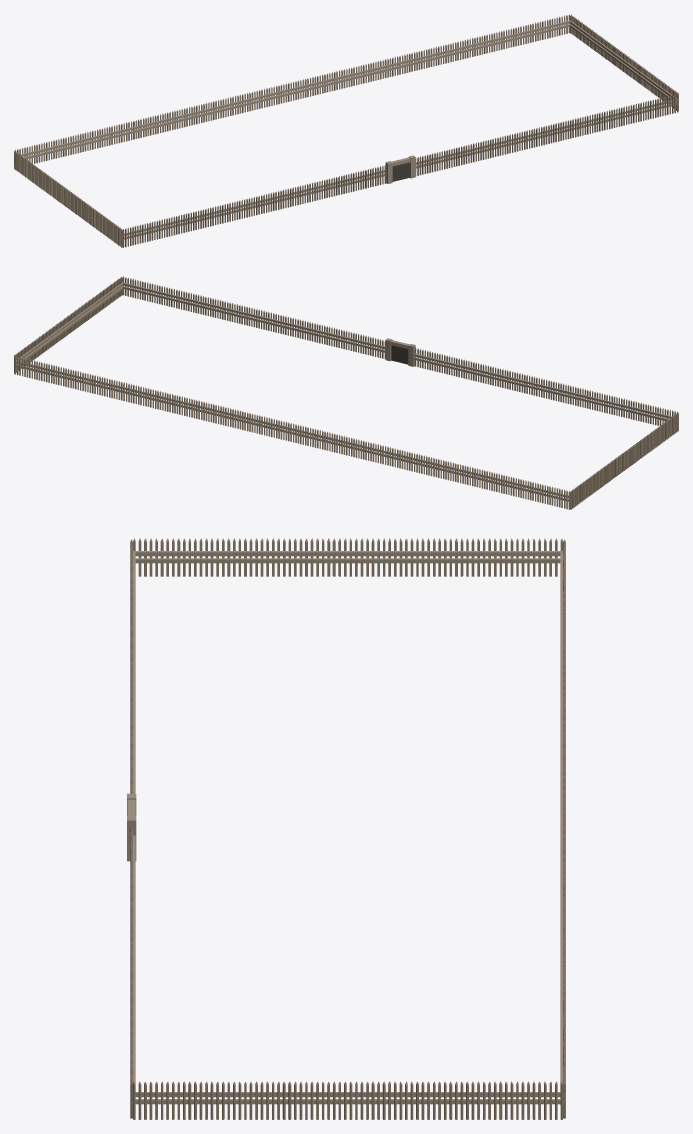
File: kinzie_garden_1812__kinzie_1804.glb
3 views of the same model, one above another, from view 1: azimuth 30°, elevation 25°; view 2: azimuth 150°, elevation 25°; view 3: azimuth 270°, elevation 25° (orthographic). The views are drawn at different scales.
Parts seen in each view (by area): view 1: kinzie_garden_1812__kinzie_1804; view 2: kinzie_garden_1812__kinzie_1804; view 3: kinzie_garden_1812__kinzie_1804.
Boxes of the visible parts, box(x1,y1,x2,y2) form: kinzie_garden_1812__kinzie_1804: box(14, 14, 678, 247); kinzie_garden_1812__kinzie_1804: box(14, 276, 678, 509); kinzie_garden_1812__kinzie_1804: box(127, 538, 565, 1119).
Bounding box in the file's own units: 46.1 × 1.6 × 15.72.
